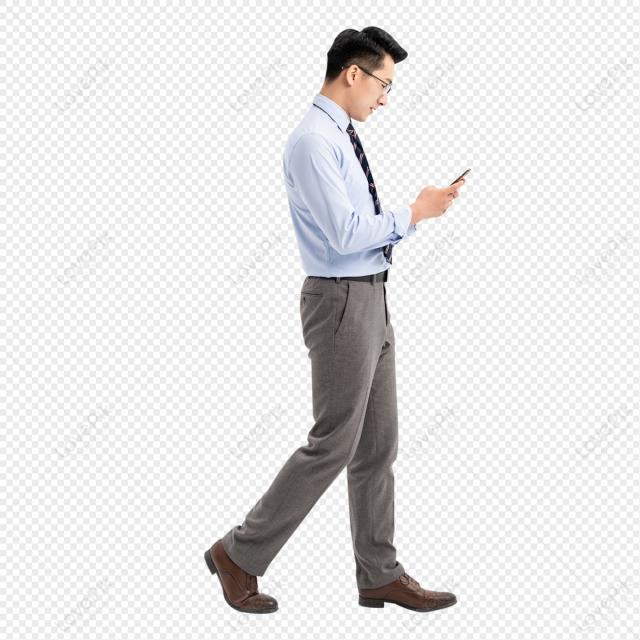Person: (202, 26, 470, 613)
